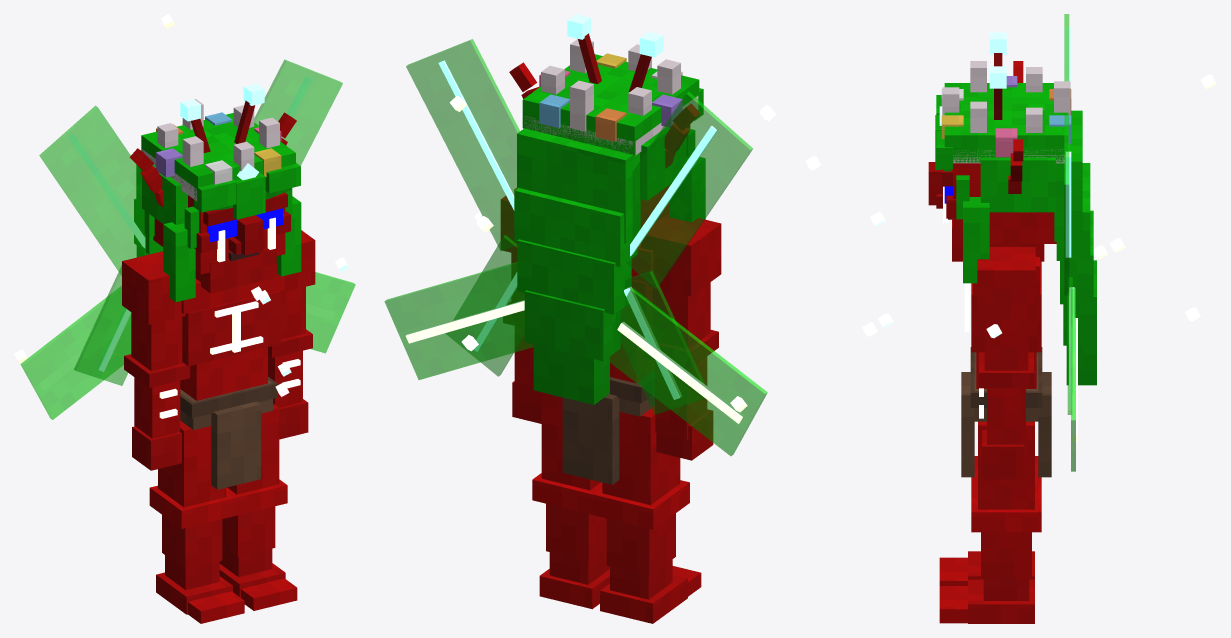
File: fairy_s1_evo2.glb
3 views of the same model, side by side, from view 1: azimuth 30°, elevation 25°; view 2: azimuth 150°, elevation 25°; view 3: azimuth 270°, elevation 25° (orthographic). The views are drawn at different scales.
Visible parts, largest first — view 1: Torso, Head, LegR, ArmR, LegL, ArmL; view 2: Torso, Head, LegR, ArmR, LegL, ArmL; view 3: Head, ArmL, LegL, Torso, LegR.
Boxes of the visible parts, x1,y1,x2,y2 form: Torso: (14, 14, 355, 489); Head: (129, 83, 301, 302); LegR: (149, 421, 244, 623); ArmR: (122, 251, 190, 470); LegL: (219, 403, 297, 610); ArmL: (268, 230, 315, 439); Torso: (384, 39, 776, 484); Head: (509, 14, 705, 404); LegR: (592, 406, 701, 623); ArmR: (641, 213, 721, 460); LegL: (532, 392, 609, 609); ArmL: (500, 188, 541, 423); Head: (928, 32, 1096, 385); ArmL: (977, 247, 1035, 479); LegL: (939, 421, 1041, 623); Torso: (805, 14, 1216, 477); LegR: (939, 456, 1041, 585).
Size of the model in its own units: 0.7806 by 1.11 by 0.7622.
Materials: 37 (37 with a texture image).
